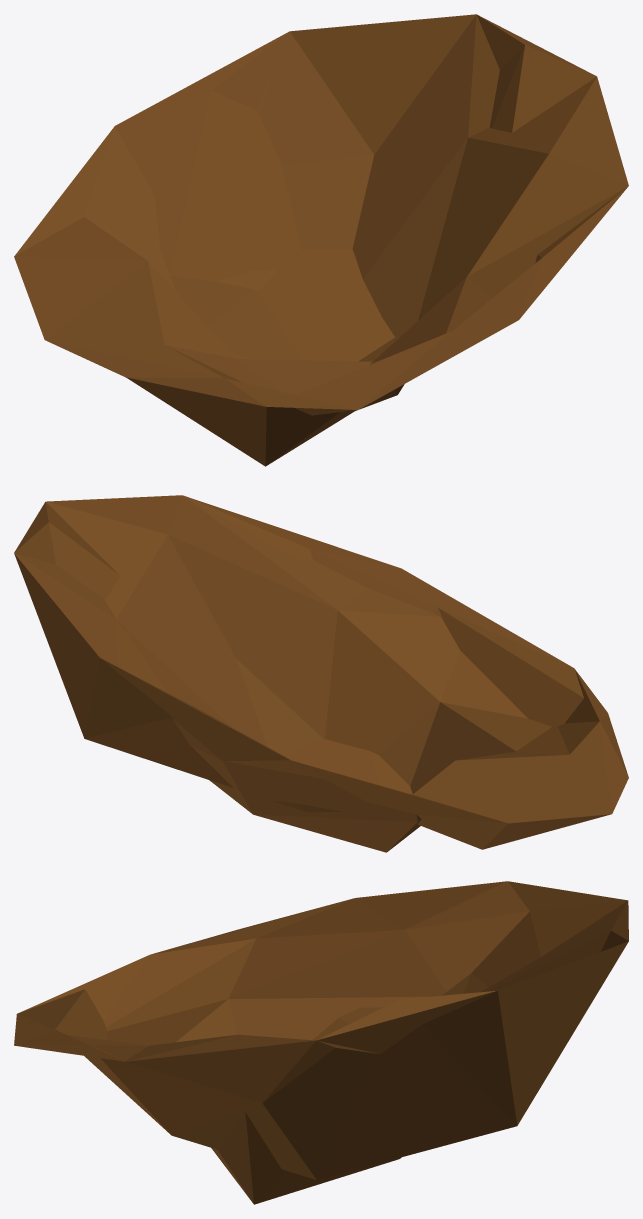
File: lobang 1.fbx
3 views of the same model, one above another, from view 1: azimuth 30°, elevation 25°; view 2: azimuth 150°, elevation 25°; view 3: azimuth 270°, elevation 25° (orthographic). The views are drawn at different scales.
Parts seen in each view (by area): view 1: Icosphere; view 2: Icosphere; view 3: Icosphere.
Boxes of the visible parts, <box> form: Icosphere: <box>14,14,628,466</box>; Icosphere: <box>14,495,628,852</box>; Icosphere: <box>14,881,628,1204</box>.
Size of the model in its own units: 283 by 142 by 231.
